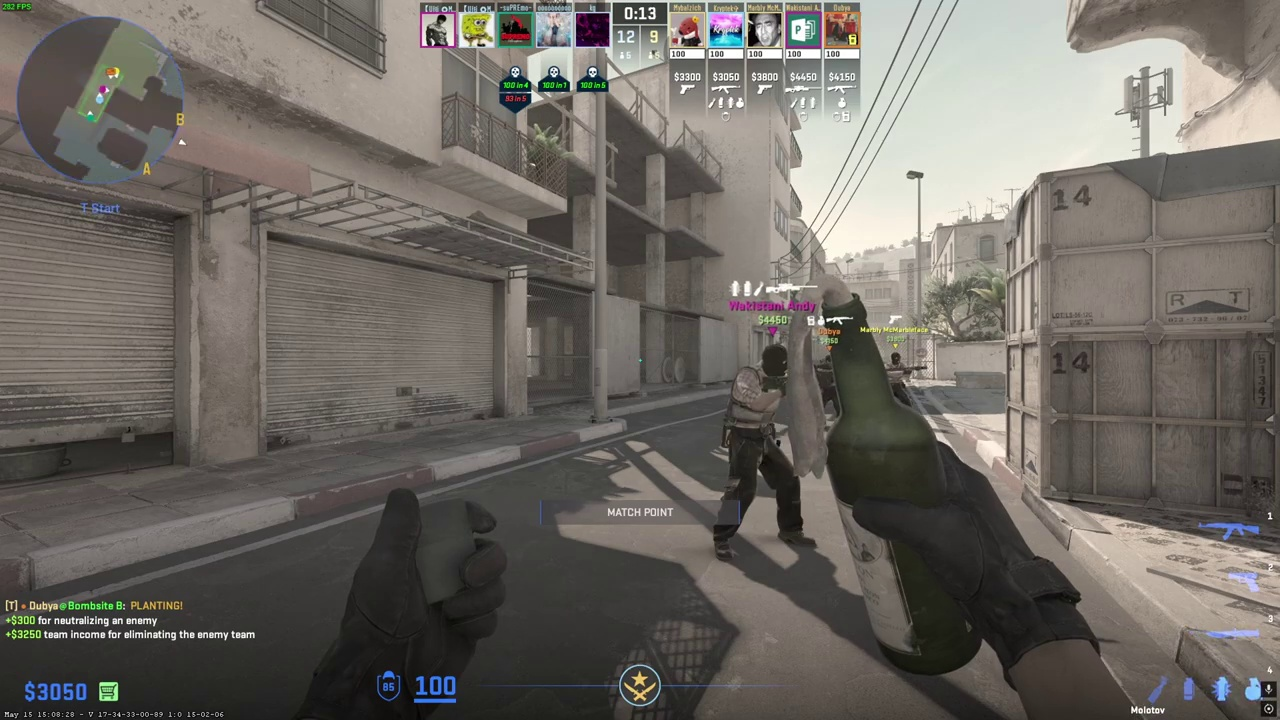Terrorist: (714, 344, 808, 561), (886, 352, 912, 409), (817, 354, 840, 418)
